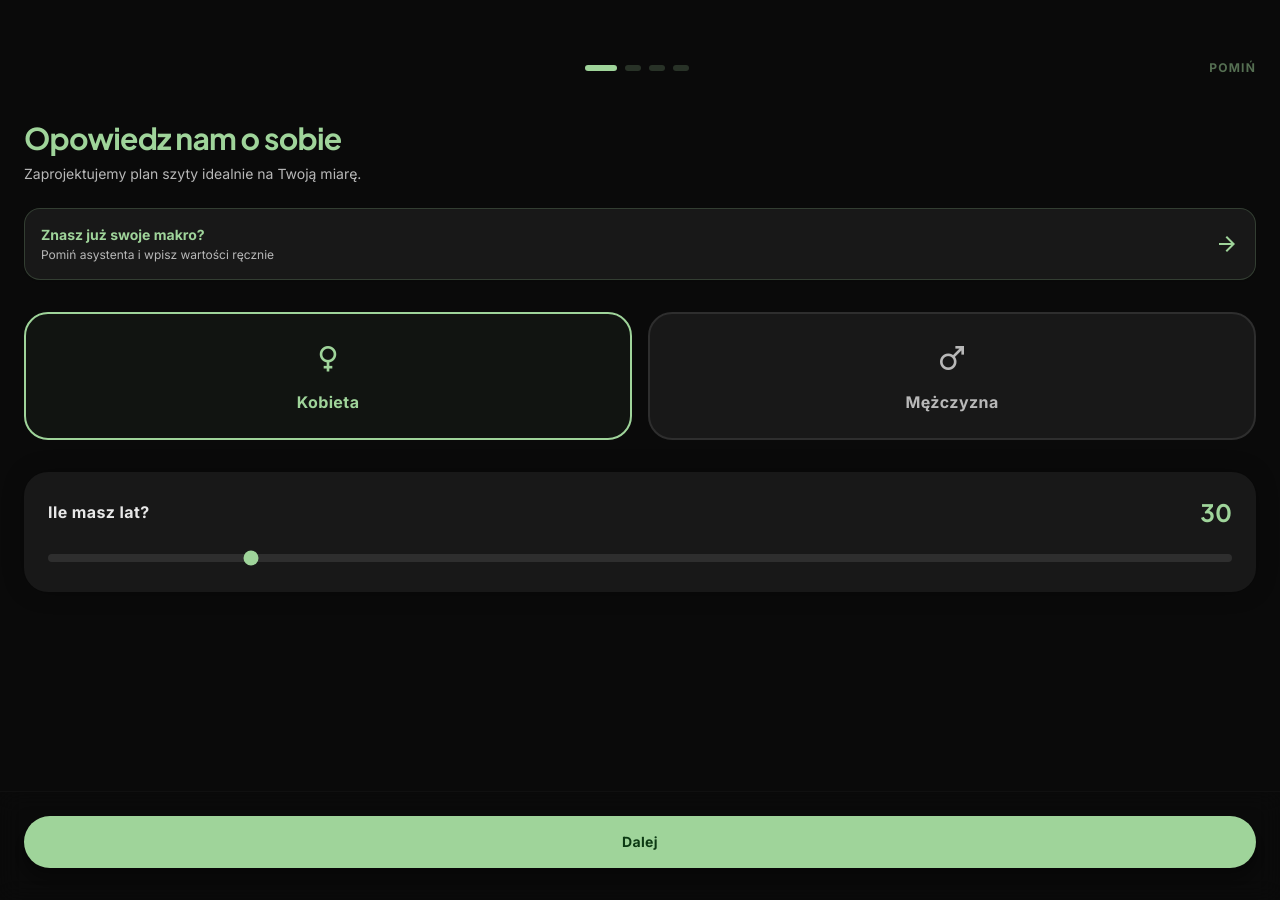
Test: Onboarding limits › checks only the fields of the current step, so going back is never blocked
Click the button "Dalej": {"x": 640, "y": 842} left=24, top=816, right=1256, bottom=868
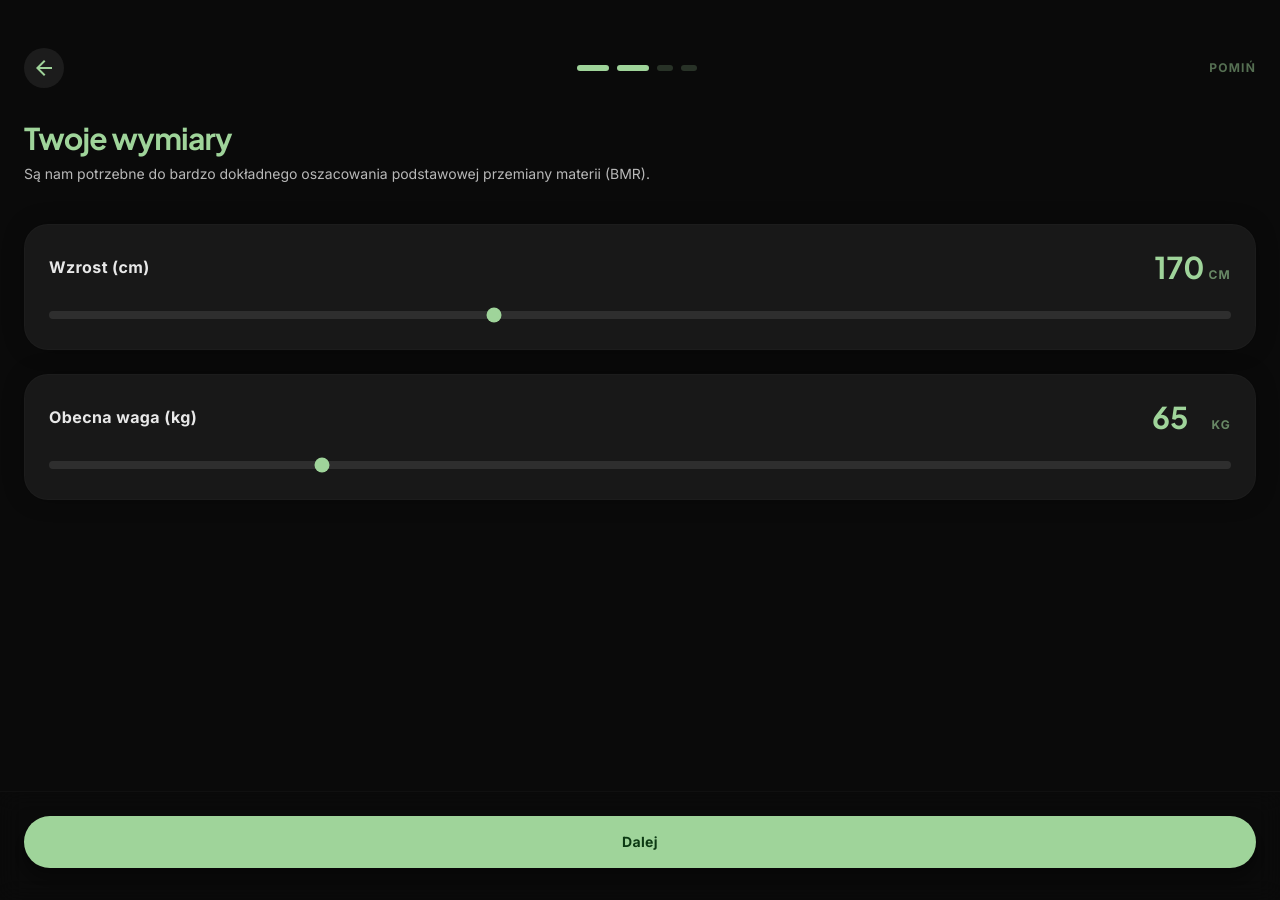
Click the button "Dalej": {"x": 640, "y": 842} left=24, top=816, right=1256, bottom=868
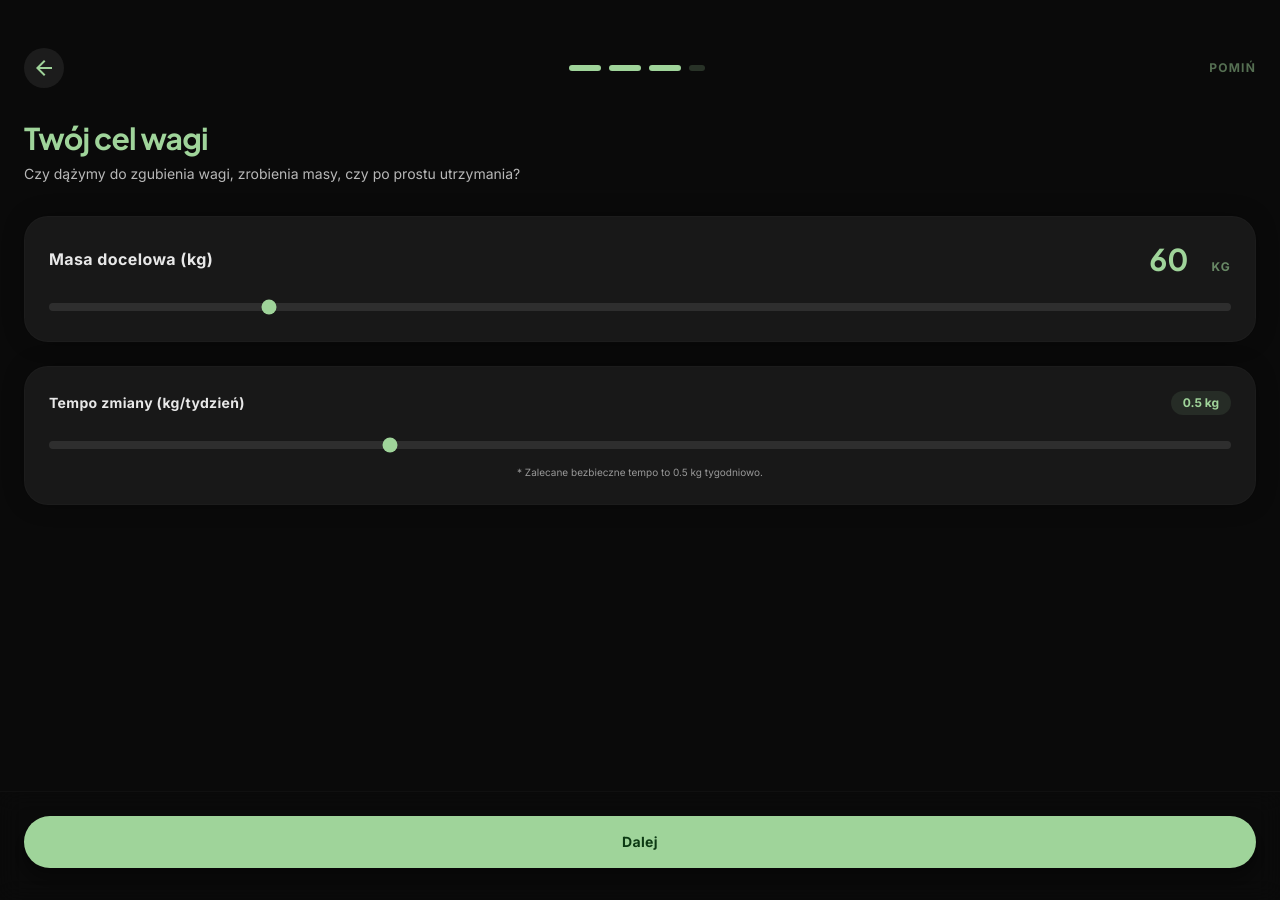
Clear the number field named "Masa docelowa (kg)": {"x": 1155, "y": 259} left=1107, top=241, right=1203, bottom=277
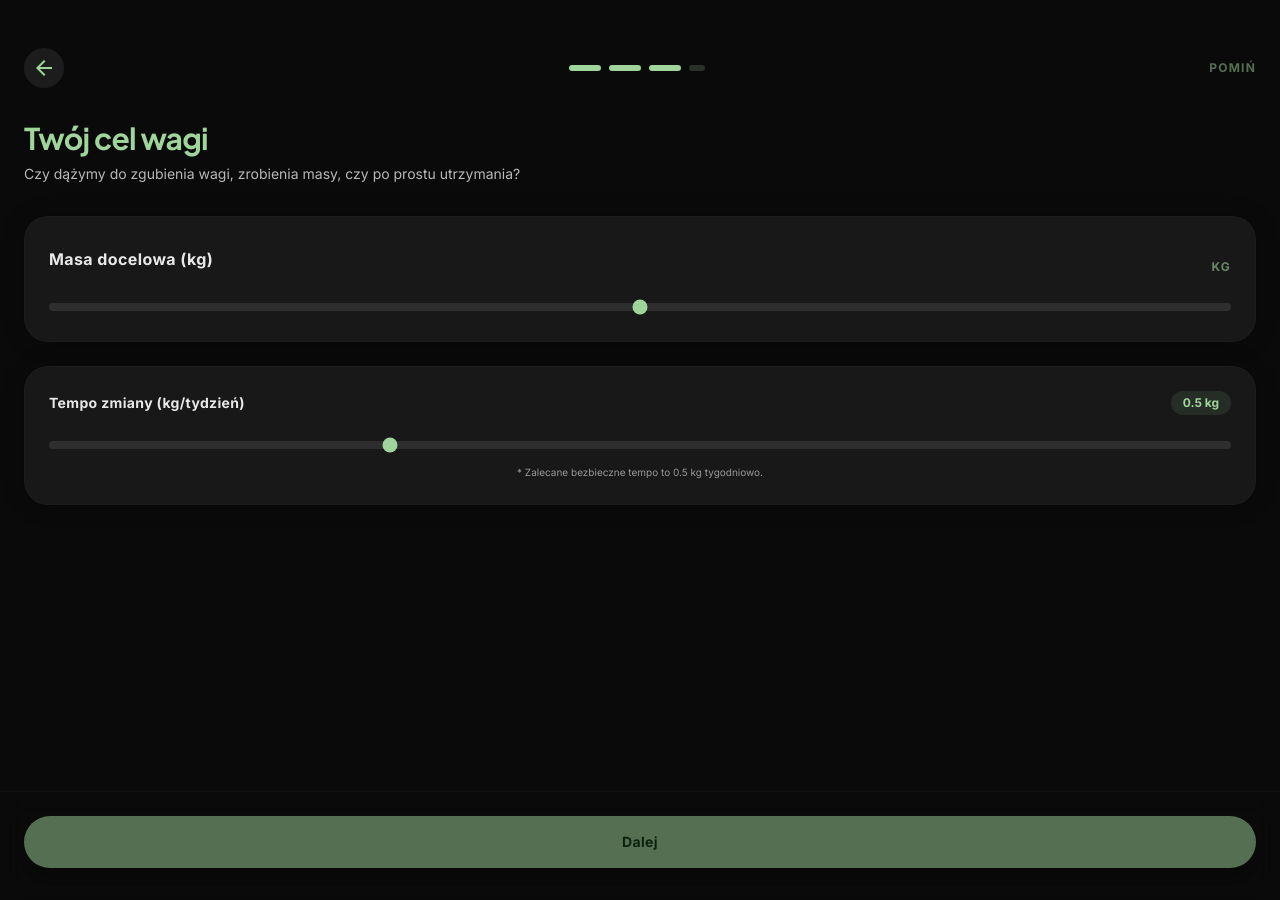
expect the button "Dalej" is disabled: met, box left=24, top=816, right=1256, bottom=868
Click the button named "Wstecz": {"x": 44, "y": 68} left=24, top=48, right=64, bottom=88
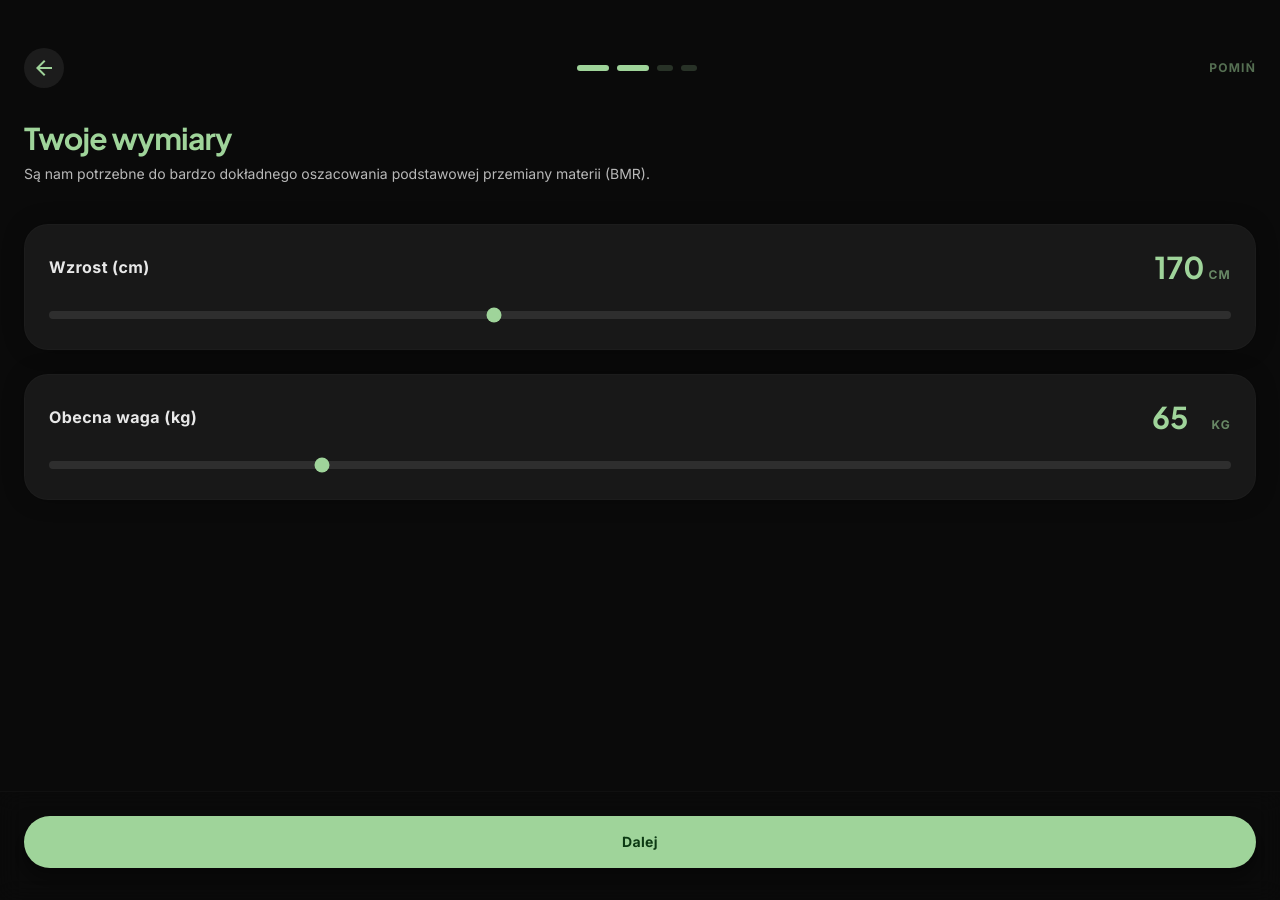
expect the number field named "Obecna waga (kg)" is shown: met, box left=1107, top=399, right=1203, bottom=435
expect the button "Dalej" is enabled: met, box left=24, top=816, right=1256, bottom=868
